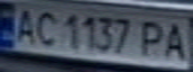1: (57, 10, 81, 49), (78, 11, 96, 52)
3: (93, 14, 118, 54)
7: (112, 15, 139, 55)
A: (157, 19, 193, 62), (9, 4, 42, 45)
C: (30, 7, 60, 47)
P: (136, 17, 169, 59)
